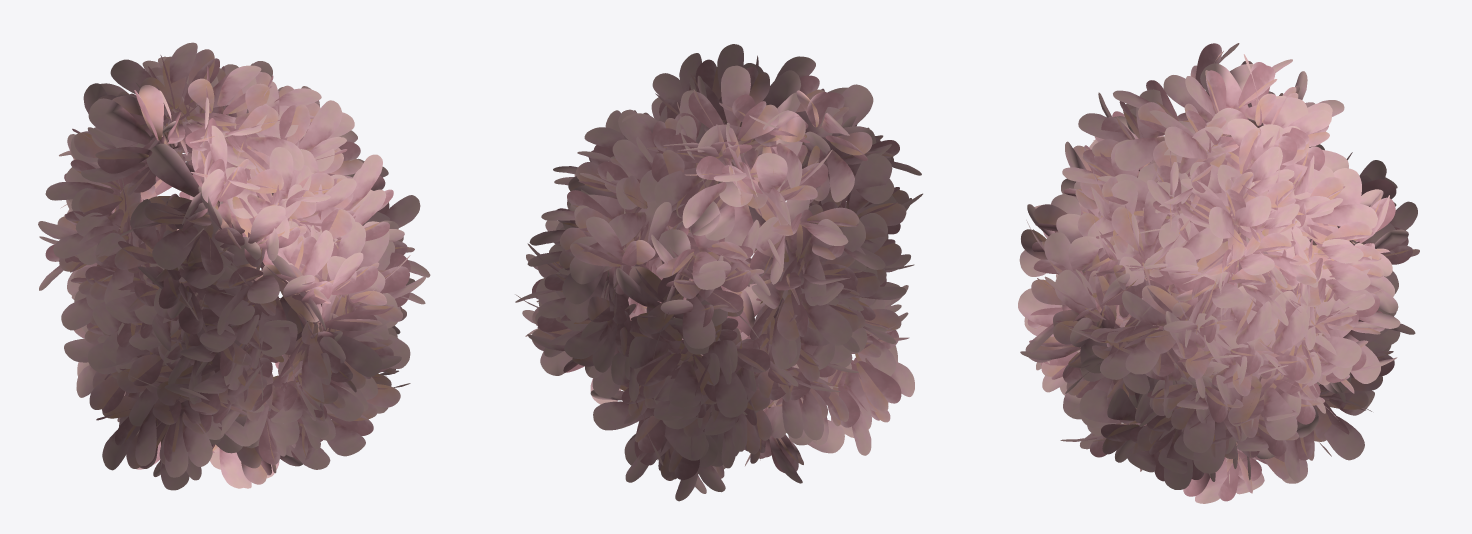
Rendered from Mesh_Foliage3_feuille.fbx.
The picture shows the model from 3 angles, left to right: view 1: azimuth 30°, elevation 25°; view 2: azimuth 150°, elevation 25°; view 3: azimuth 270°, elevation 25°; orthographic projection. The views are drawn at different scales.
Parts seen in each view (by area): view 1: Plane062; view 2: Plane062; view 3: Plane062.
Part boxes in pixels (x1,y1,x2,y2): Plane062: (38, 42, 430, 490); Plane062: (515, 44, 922, 501); Plane062: (1018, 43, 1419, 503).
Bounding box in the file's own units: 234 × 278 × 259.
